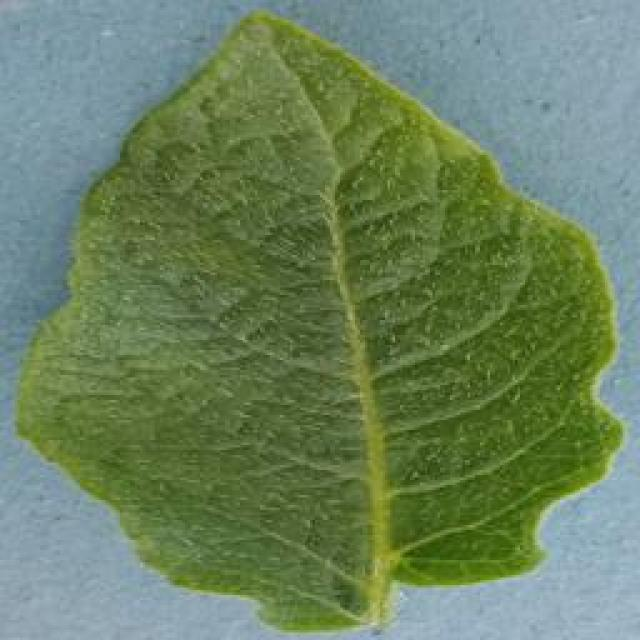Potato_Healthy: (2, 0, 630, 625)
